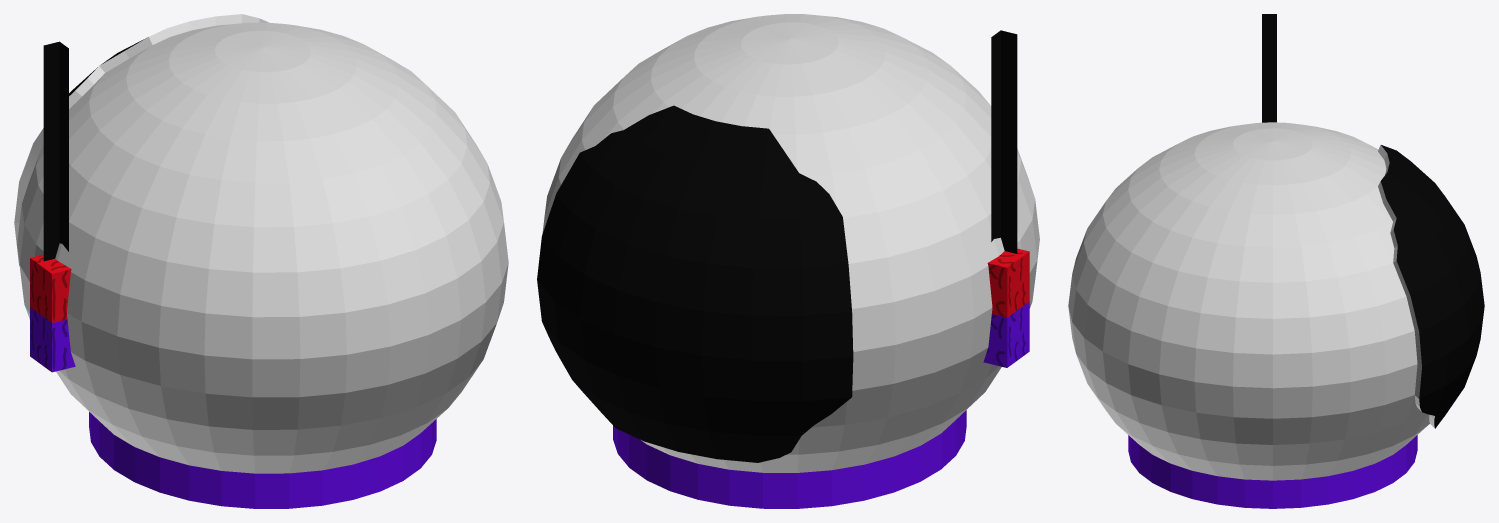
The model's file is item-astrohat.glb.
3 views of the same model, side by side, from view 1: azimuth 30°, elevation 25°; view 2: azimuth 150°, elevation 25°; view 3: azimuth 270°, elevation 25° (orthographic). The views are drawn at different scales.
Size of the model in its own units: 0.9303 by 0.9008 by 0.9656.
Materials: 4 (2 with a texture image).
